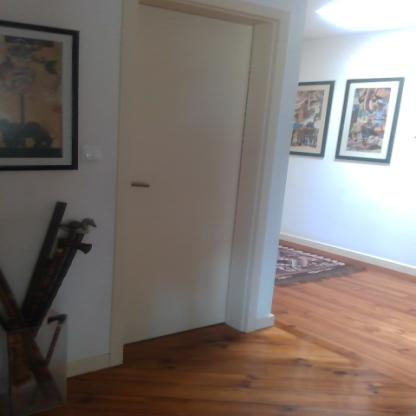closed: (114, 4, 286, 354)
